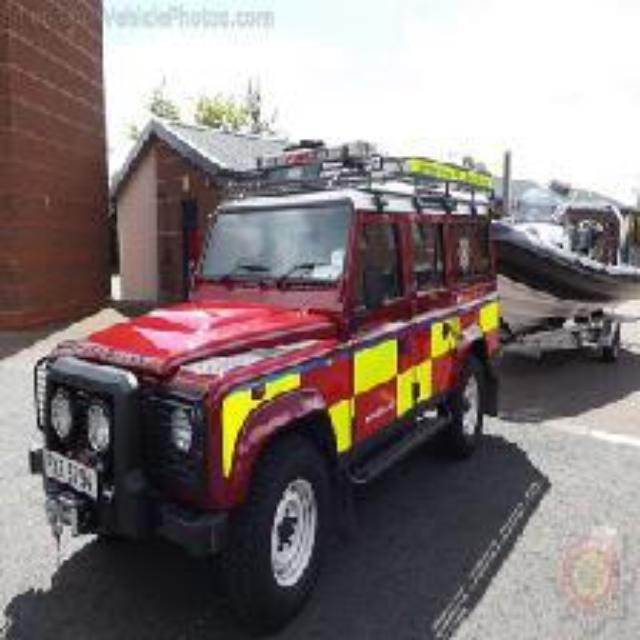emergency: (34, 152, 498, 580)
